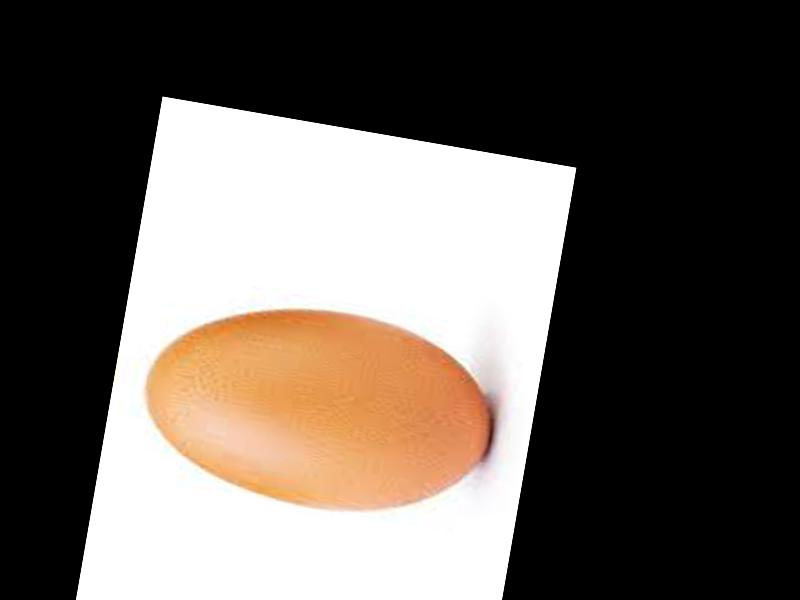Eggs: (131, 283, 506, 532)
